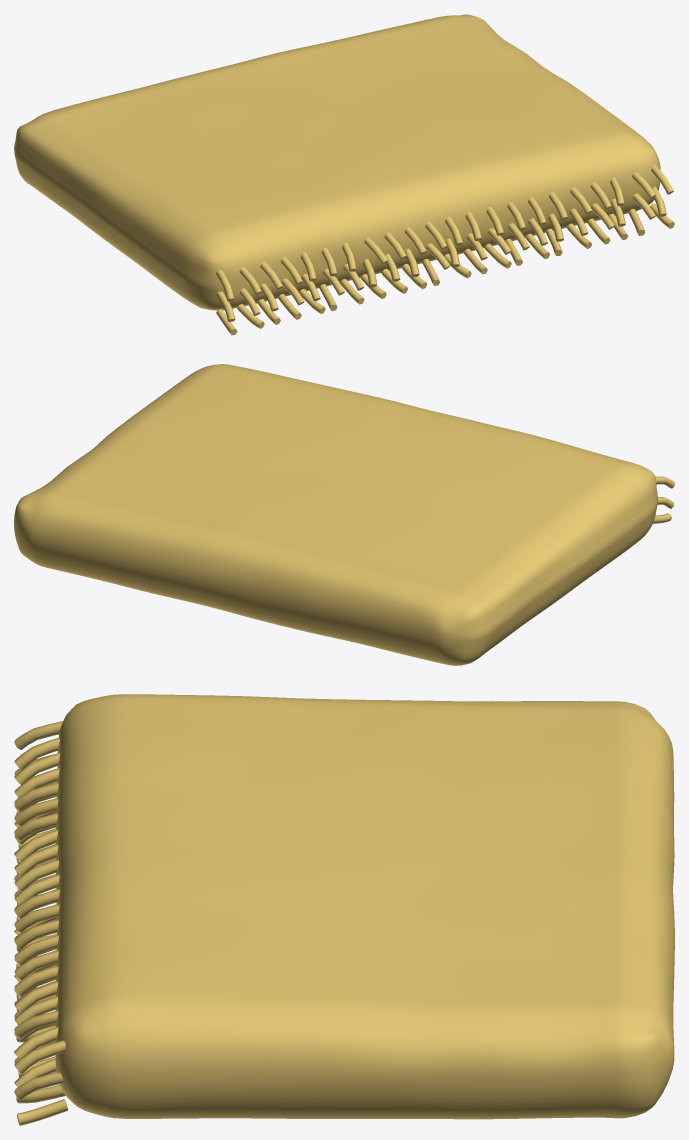
File: textiles_throw_blanket_folded.fbx
3 views of the same model, one above another, from view 1: azimuth 30°, elevation 25°; view 2: azimuth 150°, elevation 25°; view 3: azimuth 270°, elevation 25° (orthographic). The views are drawn at different scales.
Parts seen in each view (by area): view 1: textiles_throw_blanket_folded; view 2: textiles_throw_blanket_folded; view 3: textiles_throw_blanket_folded.
Part boxes in pixels (x1=…): textiles_throw_blanket_folded: x1=14, y1=14, x2=674, y2=335; textiles_throw_blanket_folded: x1=14, y1=364, x2=674, y2=665; textiles_throw_blanket_folded: x1=14, y1=694, x2=674, y2=1125.
Size of the model in its own units: 0.4802 by 0.0797 by 0.3853.
